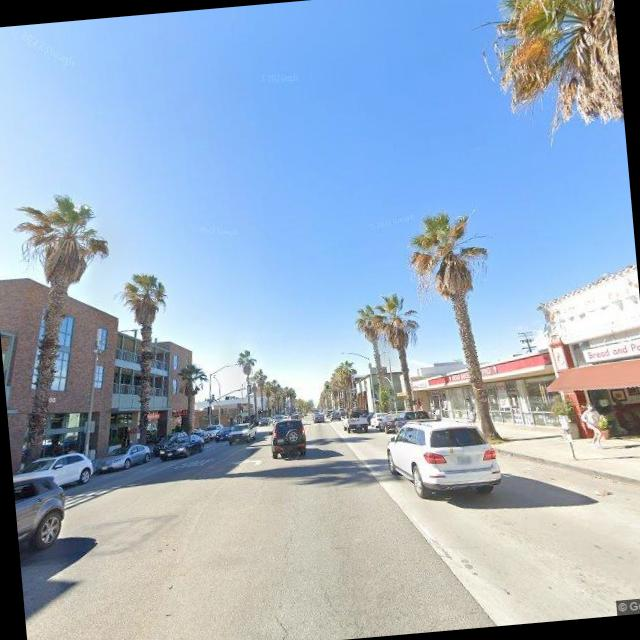pothole: (259, 524, 304, 640)
